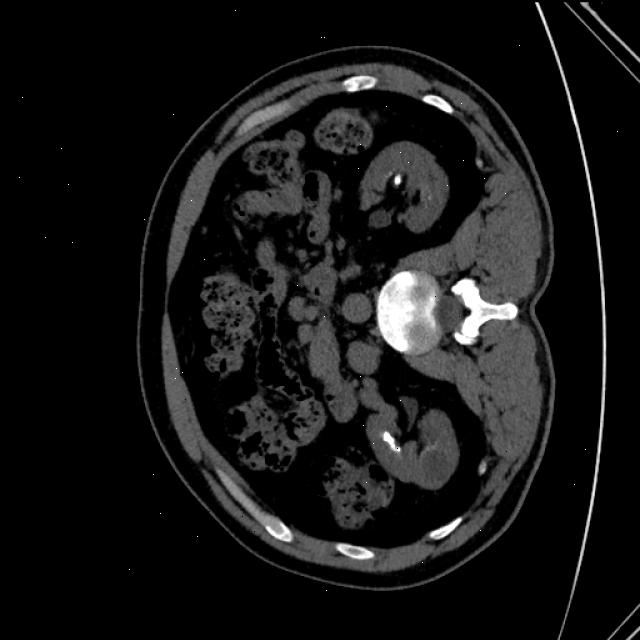kidneystone: (382, 430, 401, 452), (392, 175, 404, 188)
